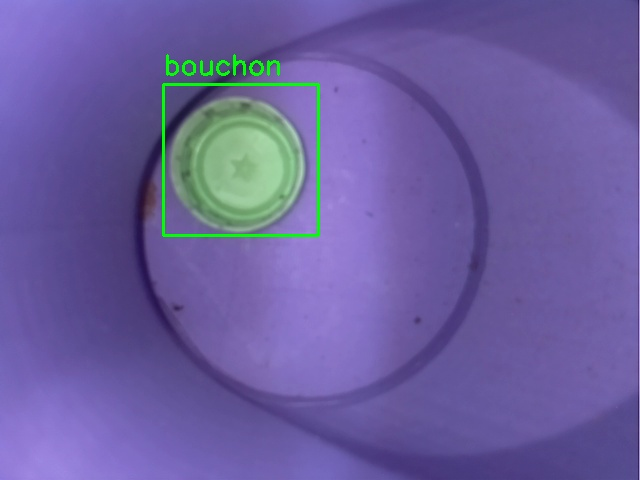bouchon: (163, 84, 318, 235)
